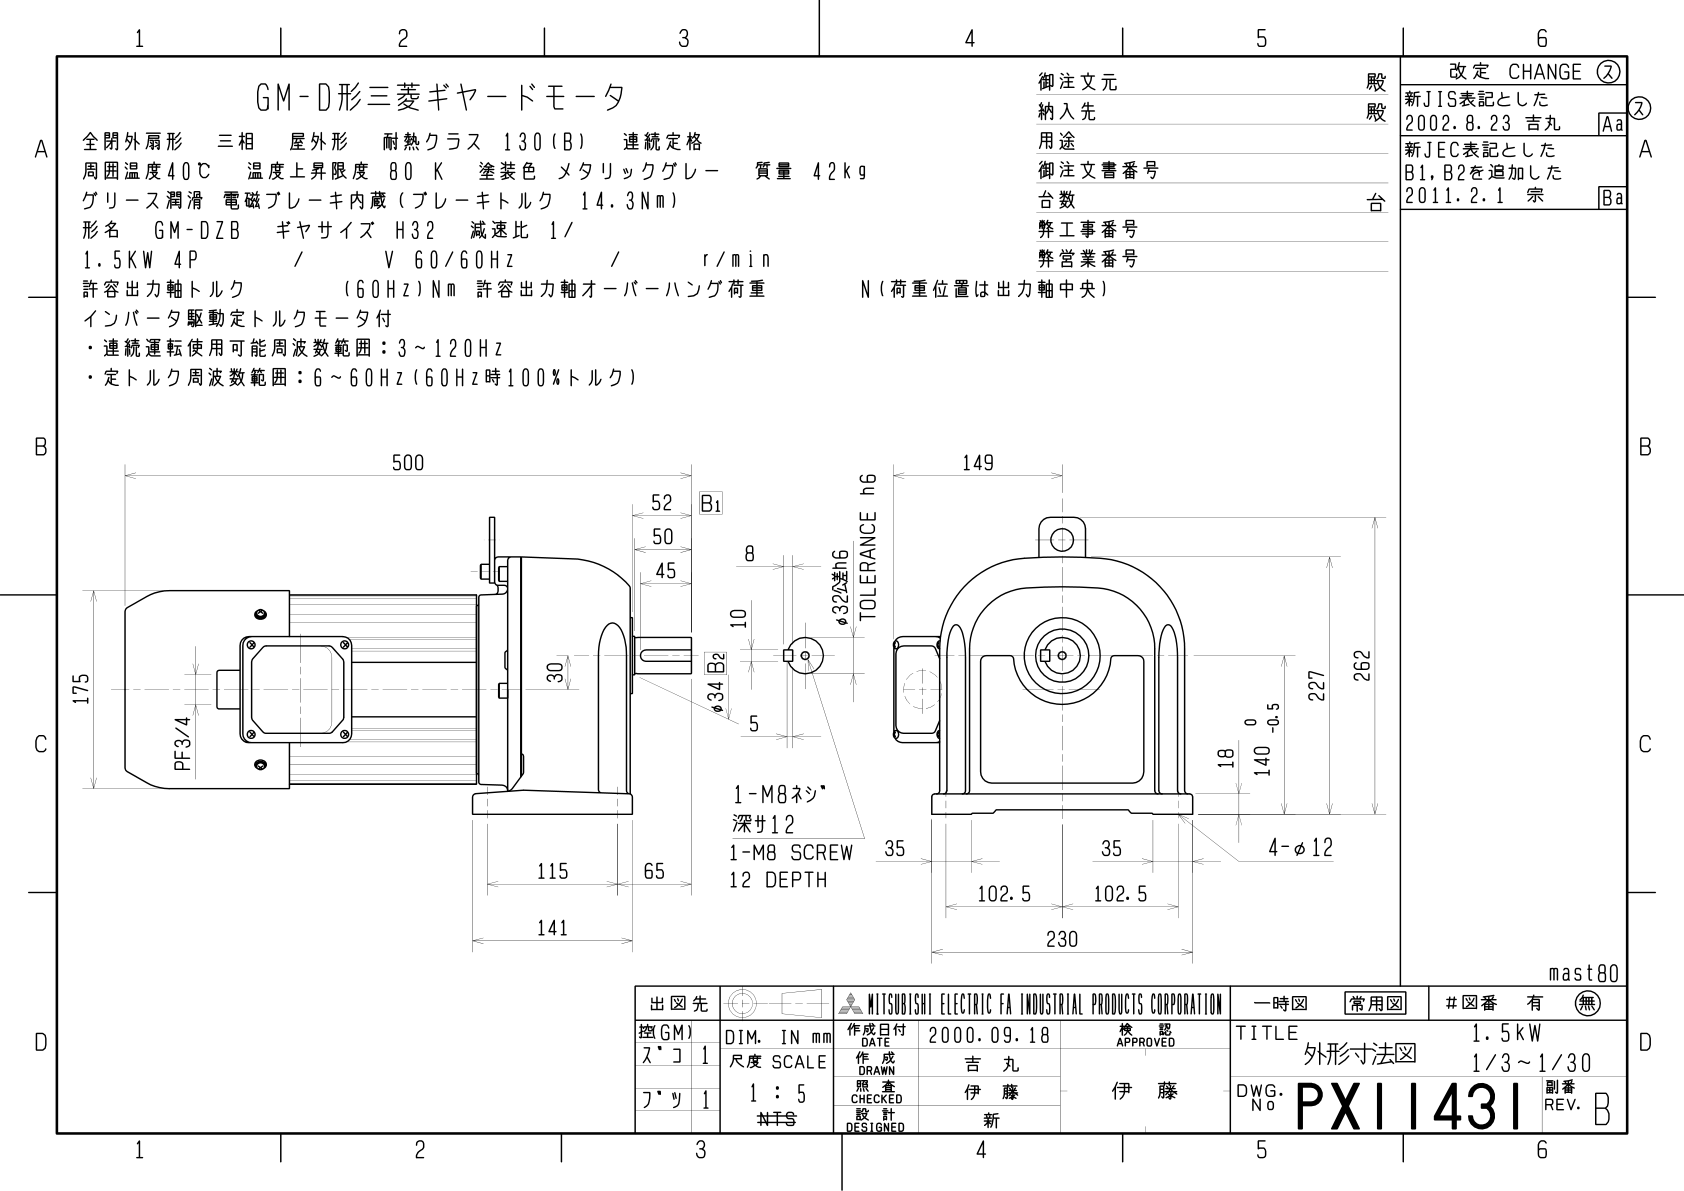GM_D_インバータ屋外_三相_脚: (54, 421, 1389, 967)
